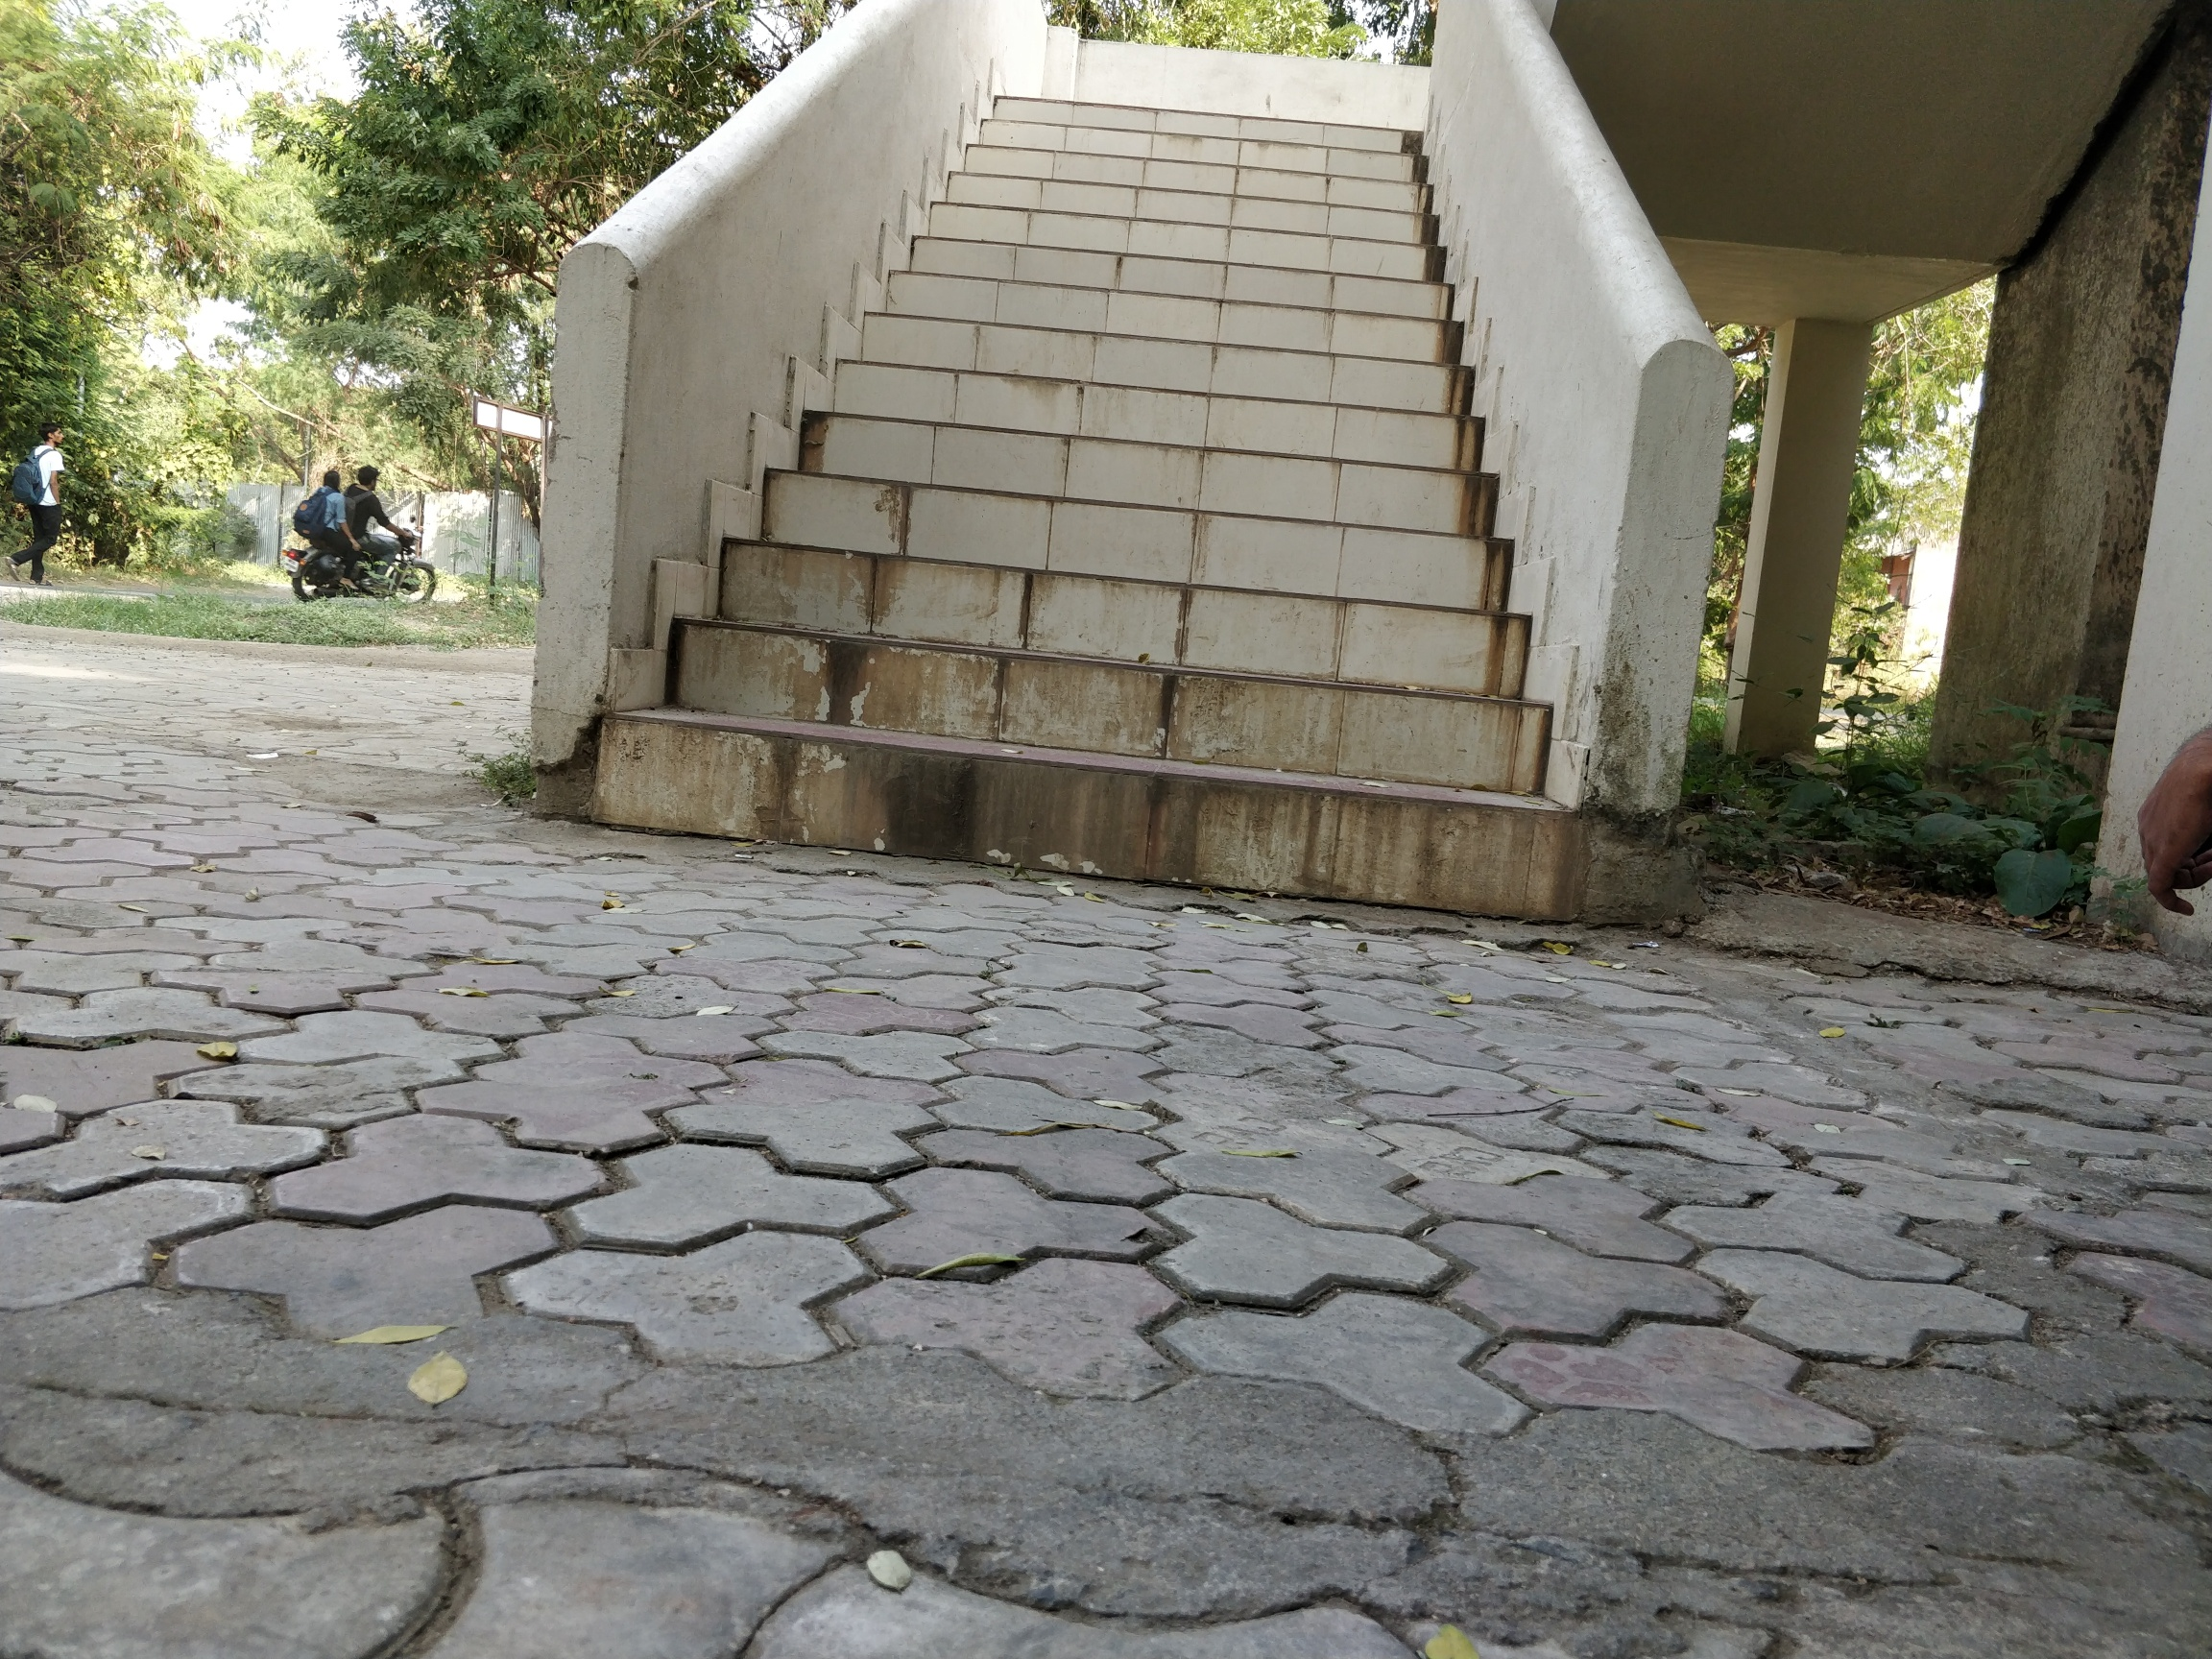stairs_up: (540, 125, 1487, 845)
